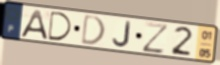2: (171, 25, 195, 58)
A: (18, 9, 49, 41)
D: (80, 13, 107, 46), (47, 10, 74, 42)
J: (112, 20, 133, 49)
Z: (141, 21, 171, 55)
